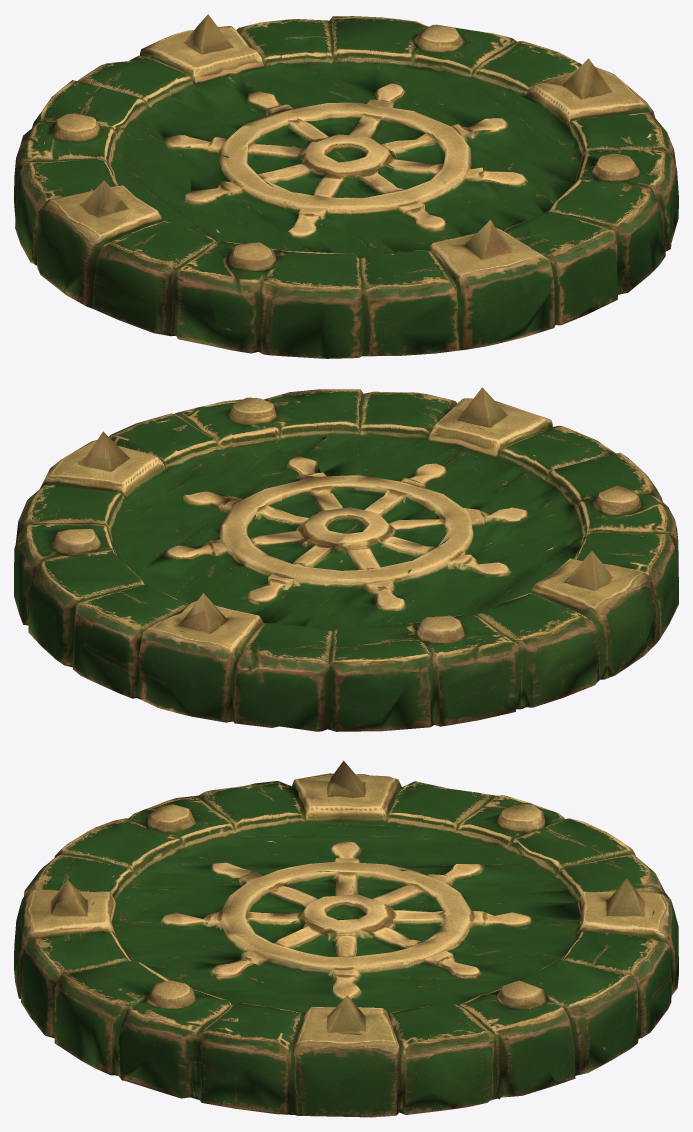
File: chip_1_lp.glb
3 views of the same model, one above another, from view 1: azimuth 30°, elevation 25°; view 2: azimuth 150°, elevation 25°; view 3: azimuth 270°, elevation 25° (orthographic).
Size of the model in its own units: 1.9 by 0.317 by 1.9.
1 material, 1 textured.
